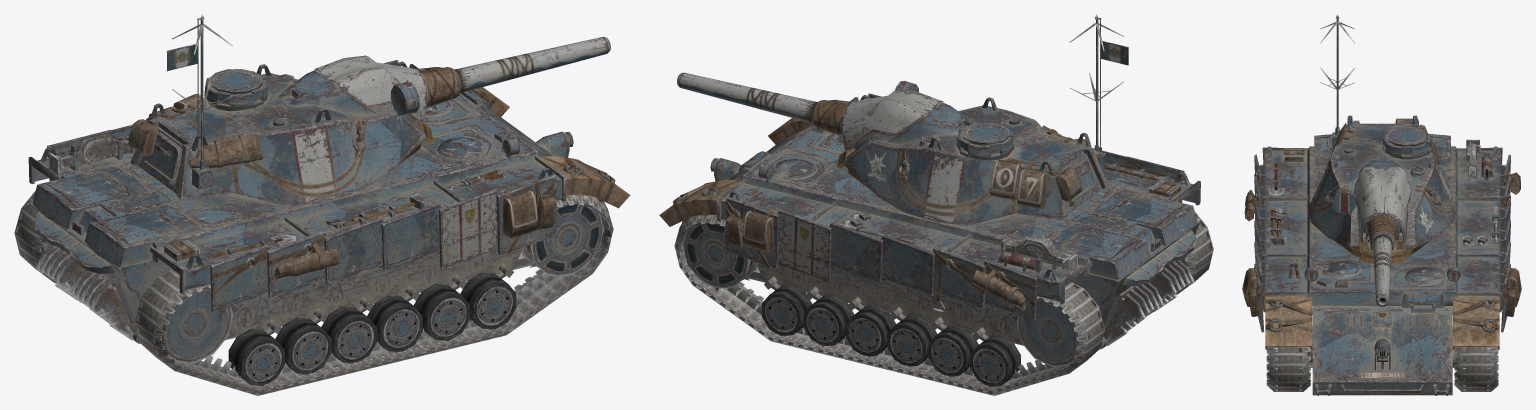
File: Oth04_Sega_Edelweiss.glb
3 renders of one model, left to right at view 1: azimuth 30°, elevation 25°; view 2: azimuth 150°, elevation 25°; view 3: azimuth 270°, elevation 25°, orthographic. The views are drawn at different scales.
Parts seen in each view (by area): view 1: SM_hull, SM_hull_nc, SM_turret_01, SM_chassis_wheels.001, SM_chassis_track_R, SM_turret_01_nc, SM_gun_01_mask, SM_gun_01, SM_chassis_track_L; view 2: SM_hull, SM_hull_nc, SM_turret_01, SM_chassis_wheels.001, SM_chassis_track_L, SM_turret_01_nc, SM_gun_01_mask, SM_gun_01, SM_chassis_track_R; view 3: SM_hull, SM_hull_nc, SM_turret_01, SM_gun_01_mask, SM_turret_01_nc, SM_chassis_track_L, SM_chassis_track_R, SM_gun_01.
Boxes of the visible parts, box(x1,y1,x2,y2) form: SM_hull: box(29, 60, 606, 340); SM_hull_nc: box(28, 61, 630, 343); SM_turret_01: box(130, 69, 425, 206); SM_chassis_wheels.001: box(31, 203, 604, 385); SM_chassis_track_R: box(135, 195, 613, 395); SM_turret_01_nc: box(128, 14, 433, 189); SM_gun_01_mask: box(314, 55, 461, 122); SM_gun_01: box(454, 37, 610, 92); SM_chassis_track_L: box(14, 191, 56, 283); SM_hull: box(681, 93, 1199, 345); SM_hull_nc: box(659, 95, 1200, 349); SM_turret_01: box(844, 102, 1109, 225); SM_chassis_wheels.001: box(682, 222, 1198, 386); SM_chassis_track_L: box(674, 215, 1104, 395); SM_turret_01_nc: box(837, 14, 1128, 208); SM_gun_01_mask: box(811, 89, 943, 150); SM_gun_01: box(677, 72, 817, 123); SM_chassis_track_R: box(1175, 211, 1213, 294); SM_hull: box(1254, 133, 1510, 395); SM_hull_nc: box(1242, 139, 1521, 395); SM_turret_01: box(1308, 120, 1456, 256); SM_gun_01_mask: box(1354, 166, 1411, 249); SM_turret_01_nc: box(1320, 14, 1442, 263); SM_chassis_track_L: box(1454, 346, 1498, 391); SM_chassis_track_R: box(1266, 346, 1310, 391); SM_gun_01: box(1373, 234, 1391, 306).
Size of the model in its own units: 6.64 by 4.13 by 3.78.
2 materials, 2 textured.
